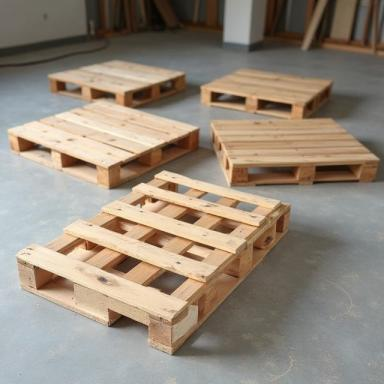pallet: (15, 169, 291, 356), (7, 101, 200, 189), (210, 117, 380, 186), (47, 59, 186, 108), (200, 68, 334, 118), (210, 93, 245, 103), (132, 88, 149, 105), (65, 83, 81, 94), (160, 81, 173, 93)
